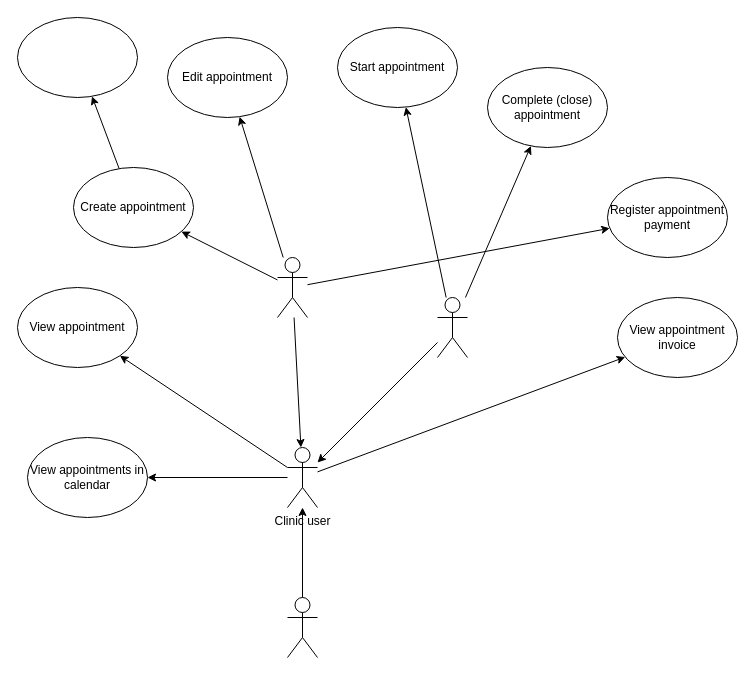
Some shapes in this 755 by 696 pixel diagram are drawn without their labels. Each missing label, with the centre of its shape:
"Admininstrator" belongs at (x=292, y=287).
"Create patient from appointment" belongs at (x=77, y=57).
"Doctor" belongs at (x=452, y=327).
"Owner" belongs at (x=302, y=627).
